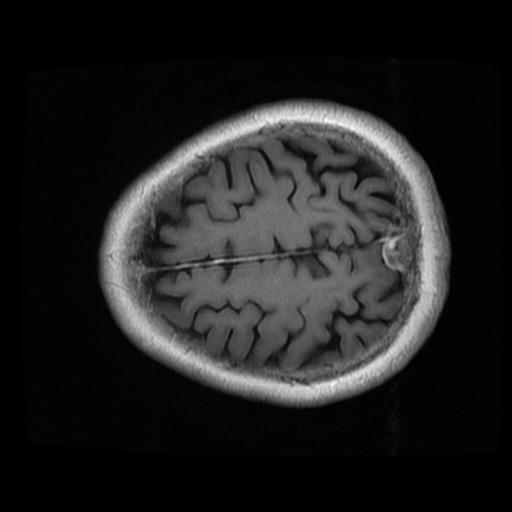meningioma: (381, 234, 410, 271)
